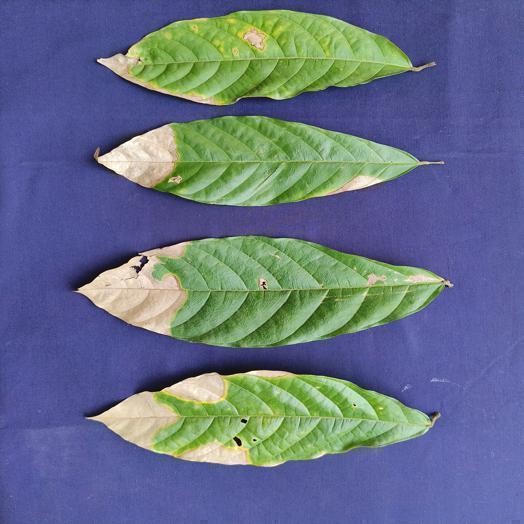Potassium: (78, 236, 450, 347), (91, 371, 438, 466), (99, 10, 433, 104), (98, 116, 442, 205)
